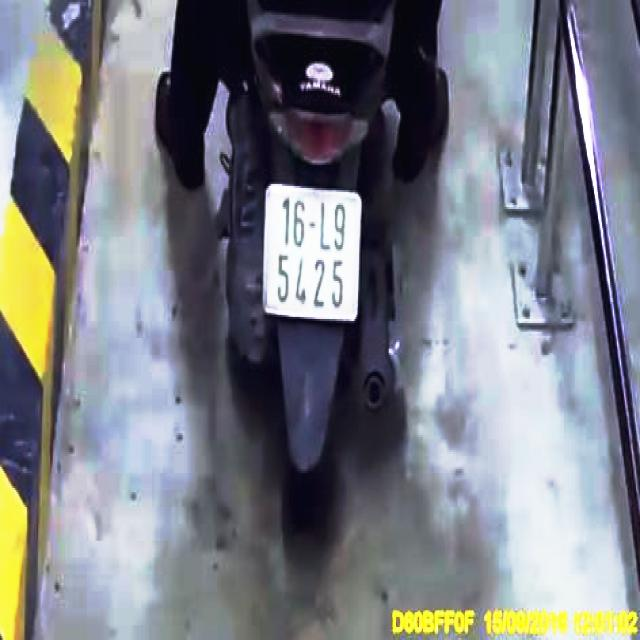license_plate: (265, 184, 361, 317)
